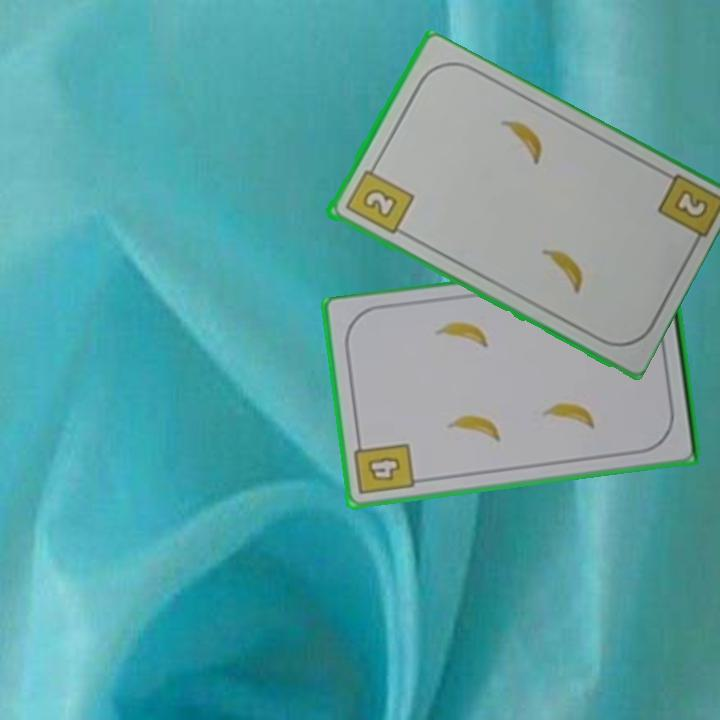2b: (341, 159, 416, 237), (669, 186, 711, 222)
4b: (351, 435, 417, 498)
